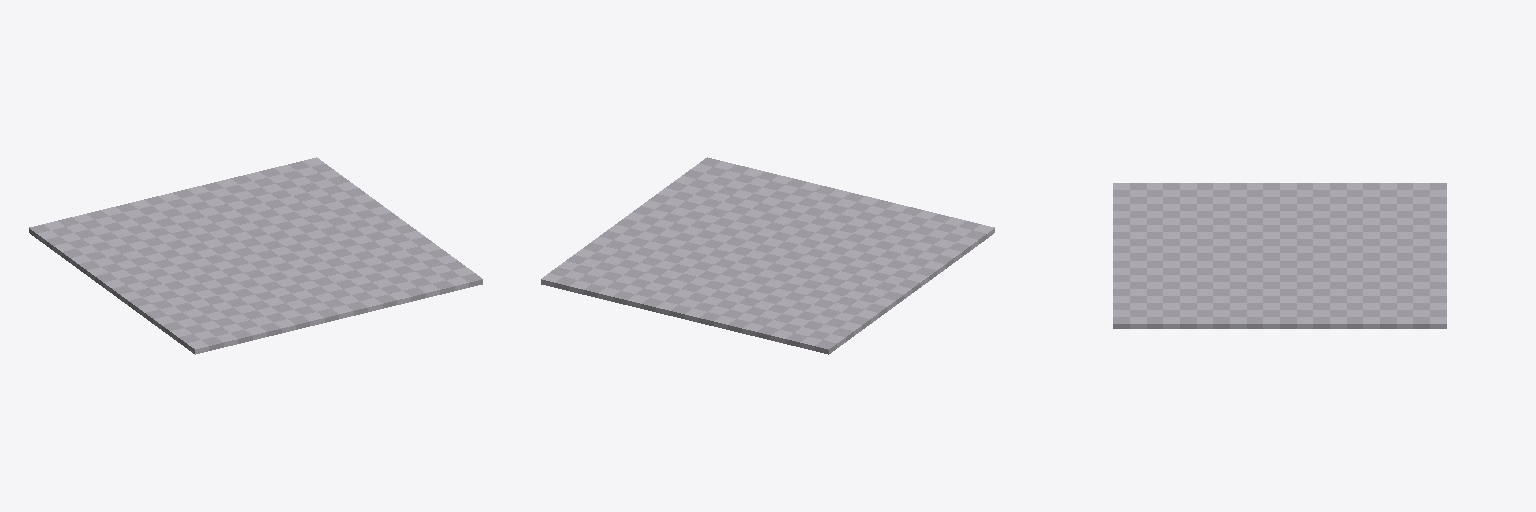
File: big_floor.obj
3 renders of one model, left to right at view 1: azimuth 30°, elevation 25°; view 2: azimuth 150°, elevation 25°; view 3: azimuth 270°, elevation 25°, orthographic.
Visible parts, largest first — view 1: Basic_Floor.001; view 2: Basic_Floor.001; view 3: Basic_Floor.001.
Boxes of the visible parts, <box> form: Basic_Floor.001: <box>29,157,482,354</box>; Basic_Floor.001: <box>541,157,994,354</box>; Basic_Floor.001: <box>1113,183,1446,328</box>.
Size of the model in its own units: 30 by 0.5 by 30.